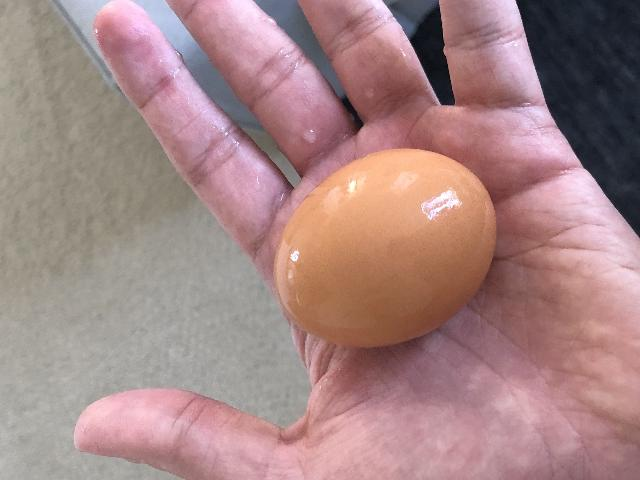Sano: (272, 146, 498, 349)
